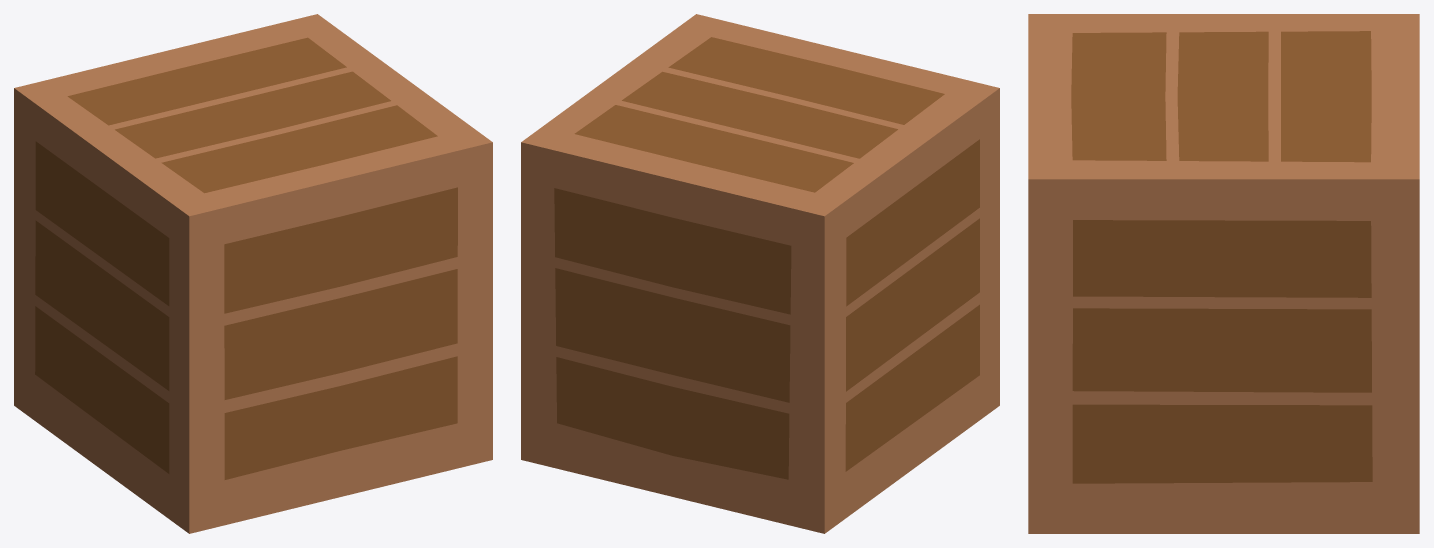
The picture shows the model from 3 angles, left to right: view 1: azimuth 30°, elevation 25°; view 2: azimuth 150°, elevation 25°; view 3: azimuth 270°, elevation 25°; orthographic projection. The views are drawn at different scales.
Visible parts, largest first — view 1: Cube; view 2: Cube; view 3: Cube.
Boxes of the visible parts, <box> form: Cube: <box>14,14,492,533</box>; Cube: <box>521,14,999,533</box>; Cube: <box>1028,14,1419,533</box>.
Size of the model in its own units: 200 by 200 by 200.
